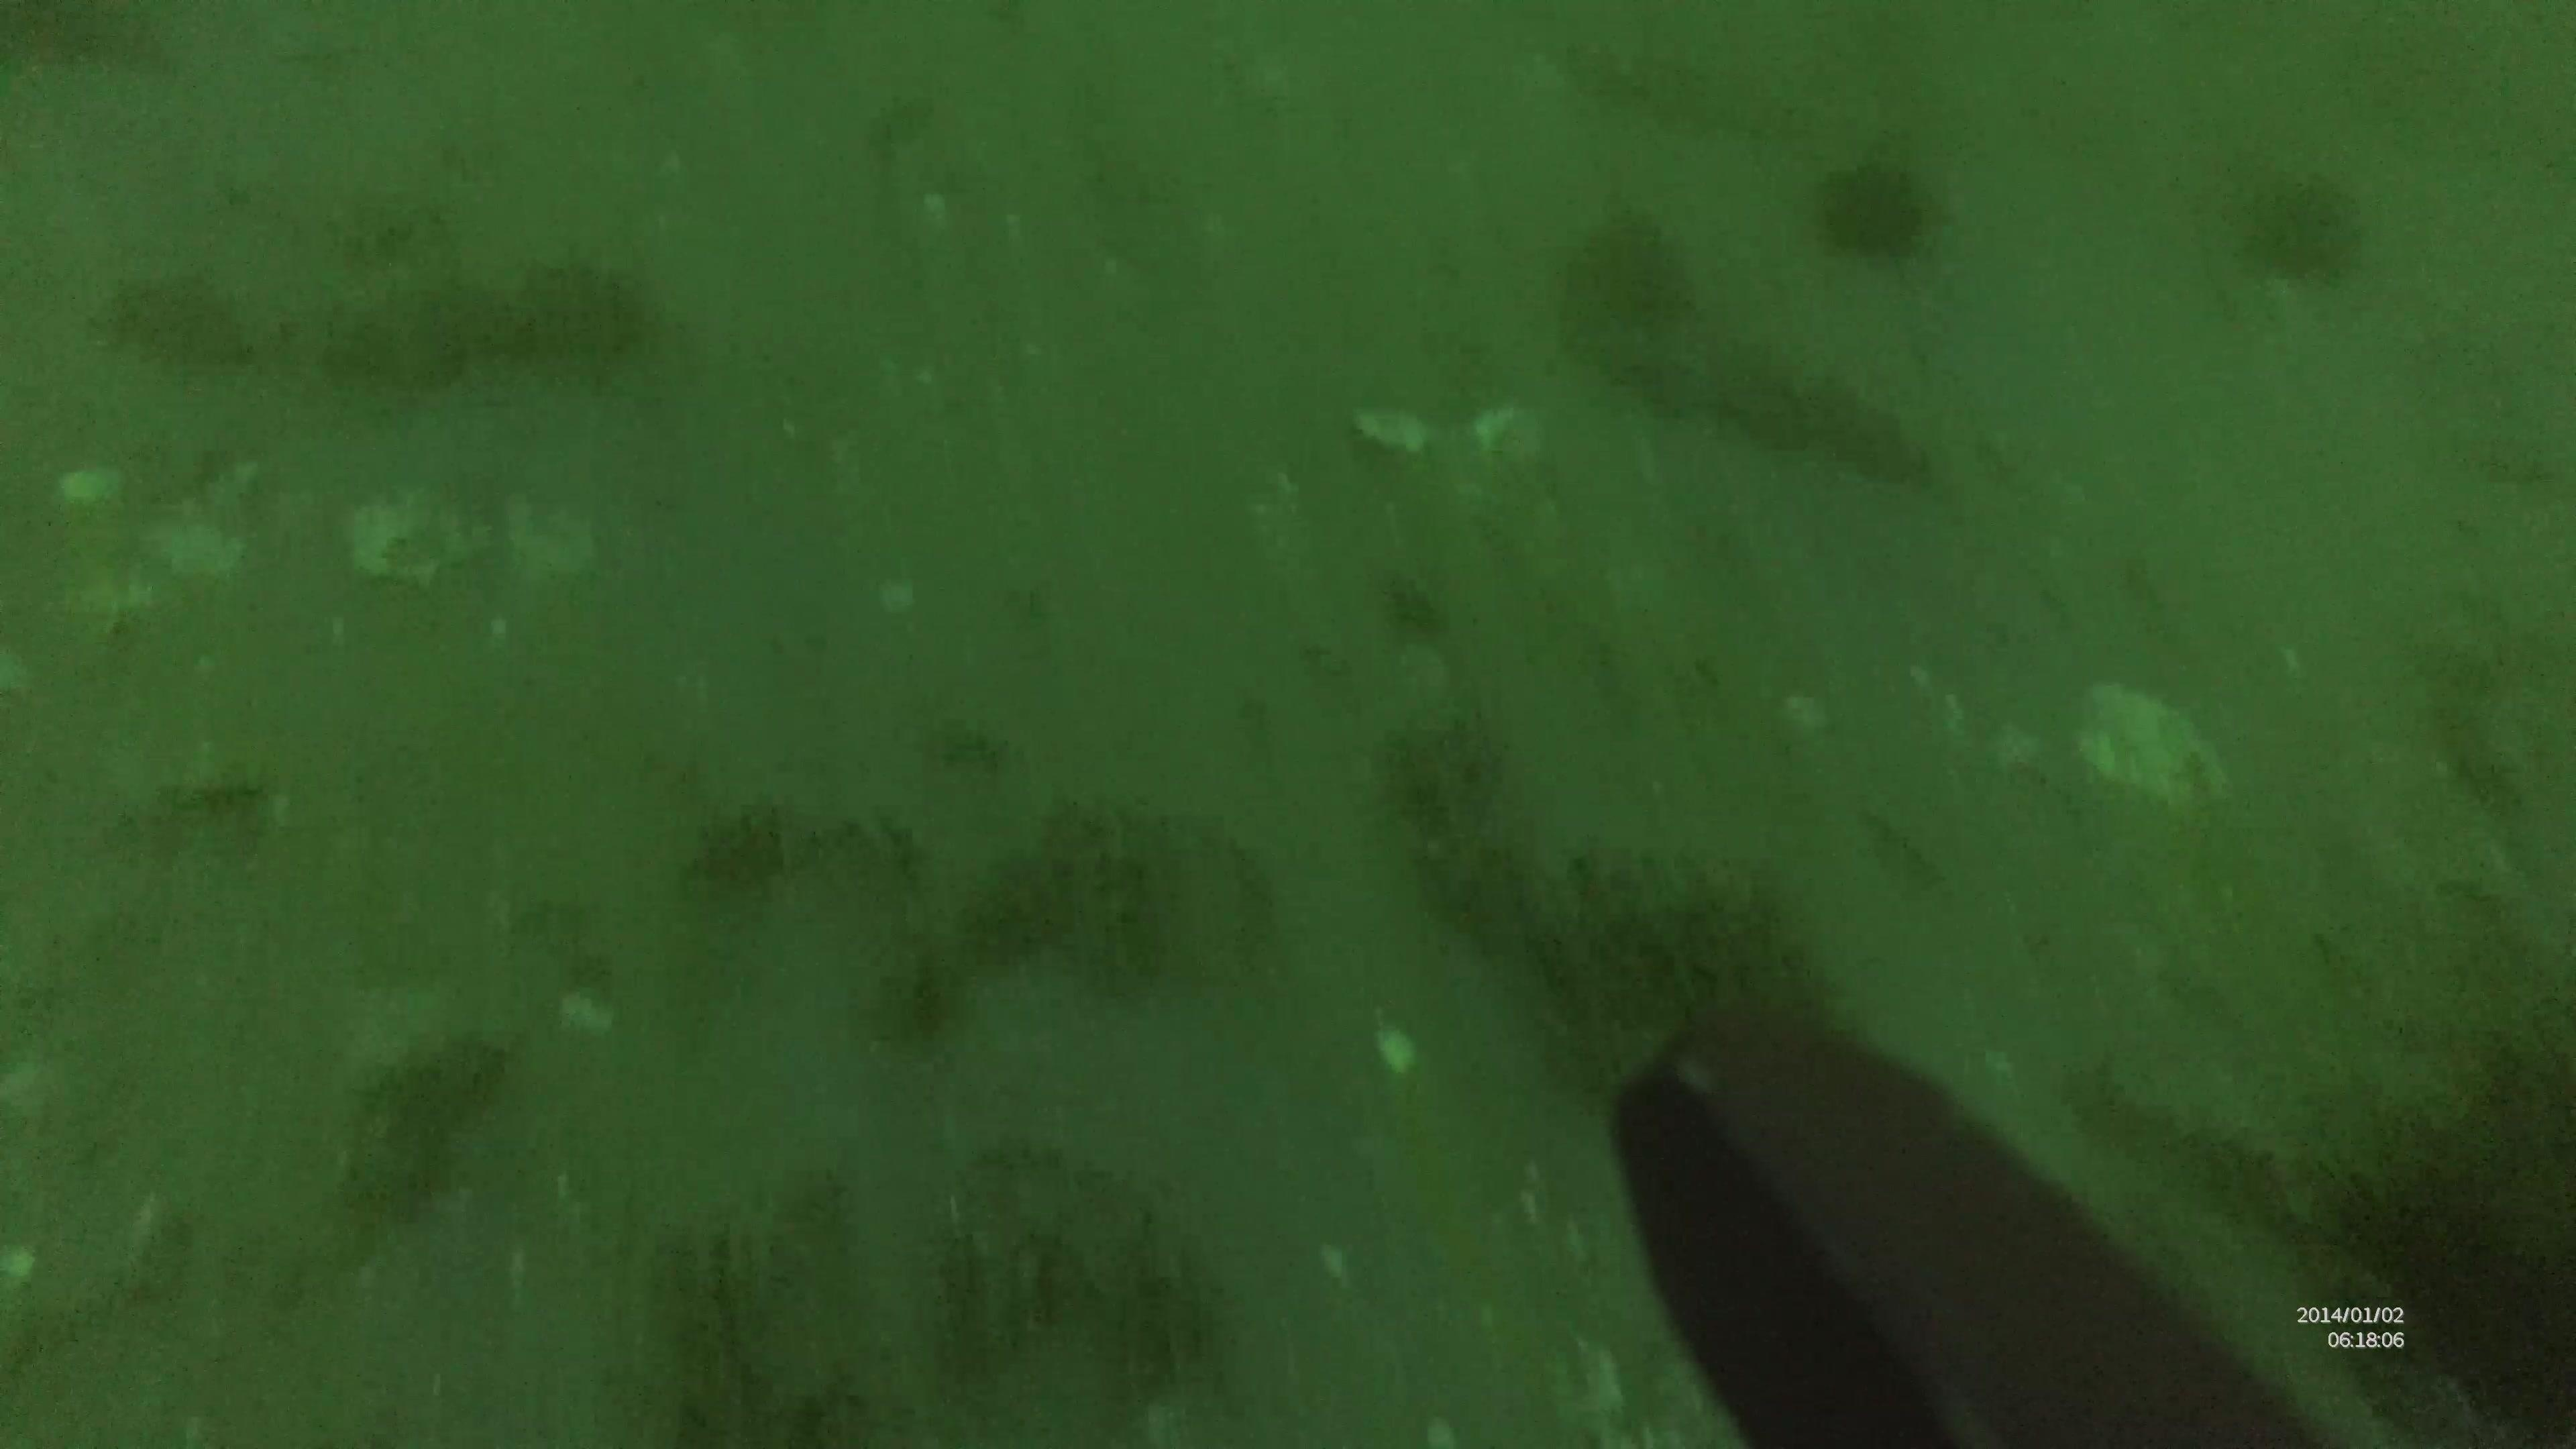echinus: (2300, 1047, 2576, 1445), (1806, 150, 1943, 269)
holothurian: (1571, 294, 1937, 488)
